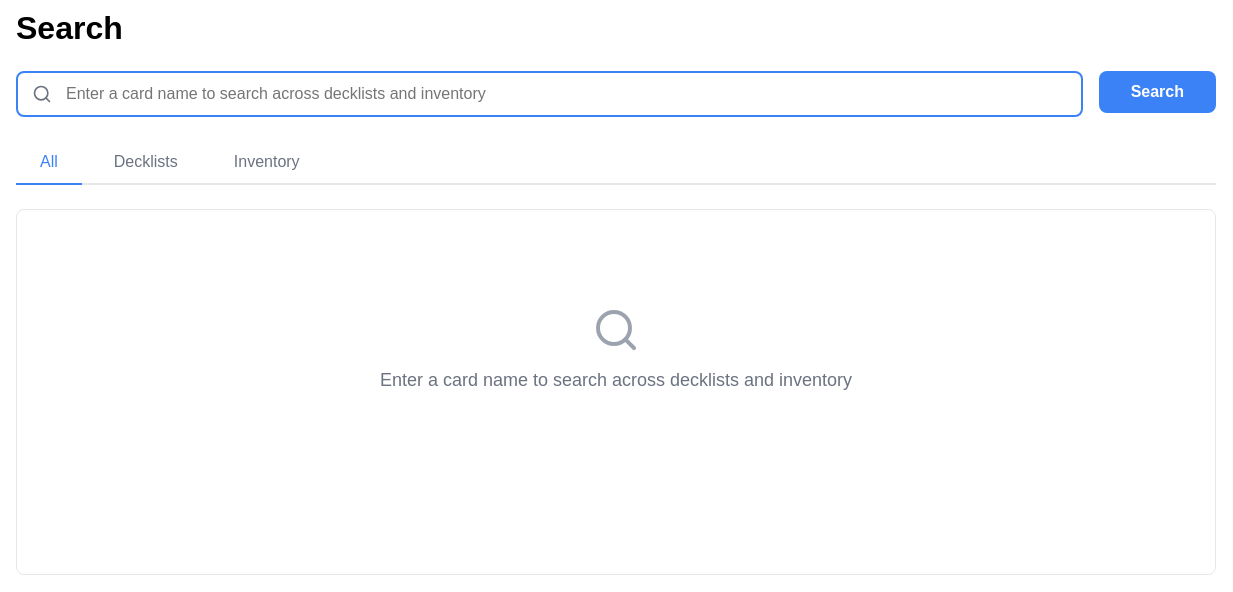
Scenario: Empty States › should show suggestion to try different search terms
Type "xyz" into the field with placeholder "Enter a card name to search across decklists and inventory" at (549, 94), box [16,71,1083,117]
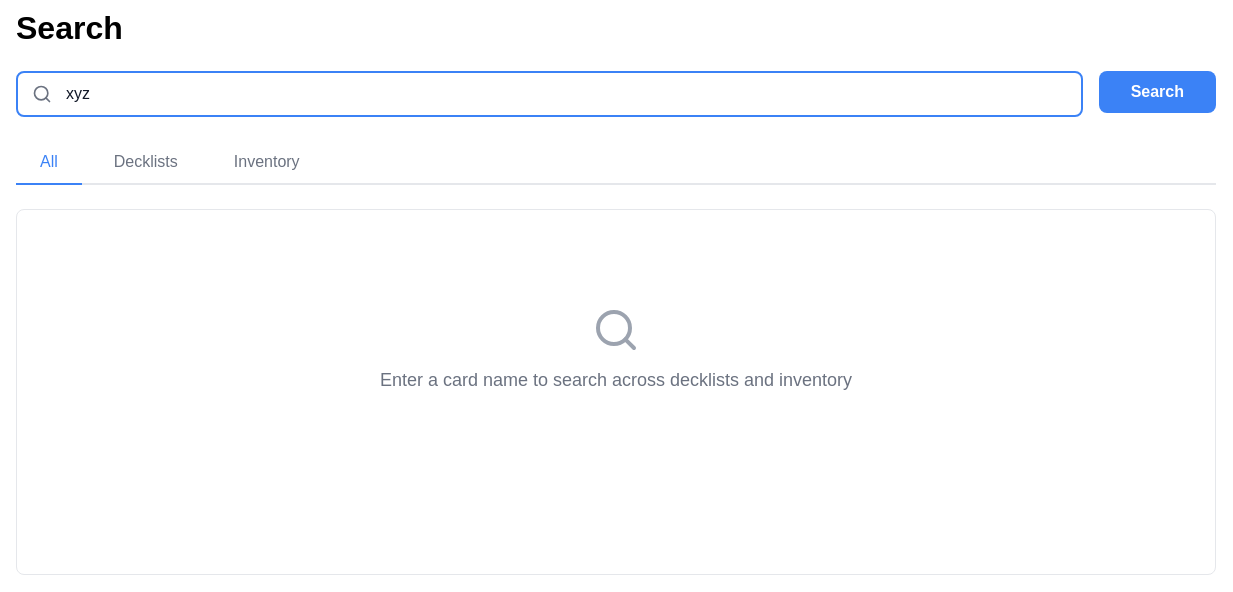
Click the button "Search" at (1157, 92), box [1099,71,1216,113]
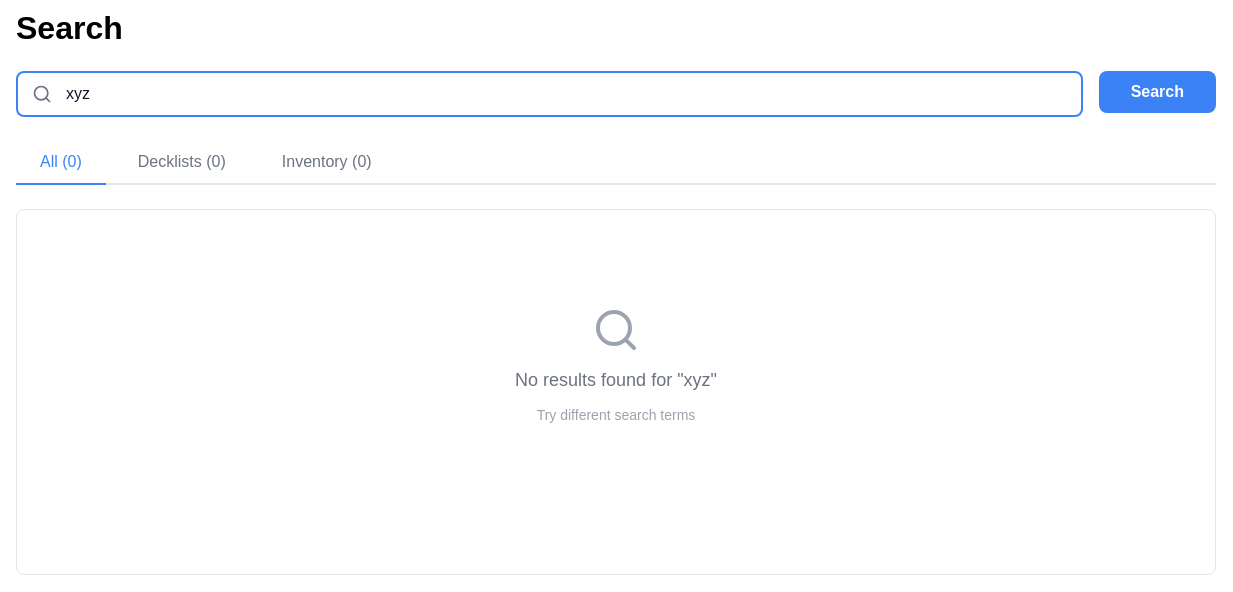
Expected: the text "Try different search terms" is shown, [537,407,695,423]
